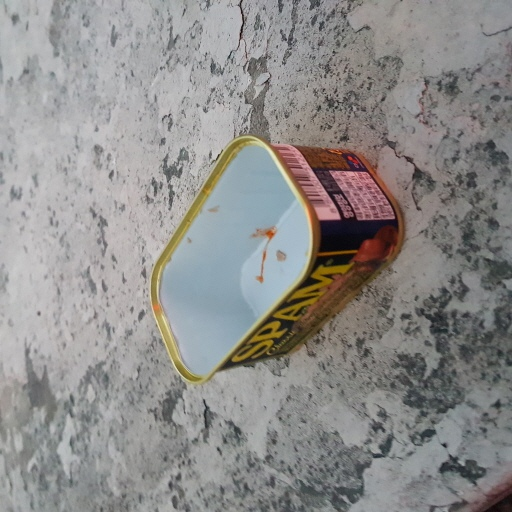Metal_2: (153, 132, 405, 384)
